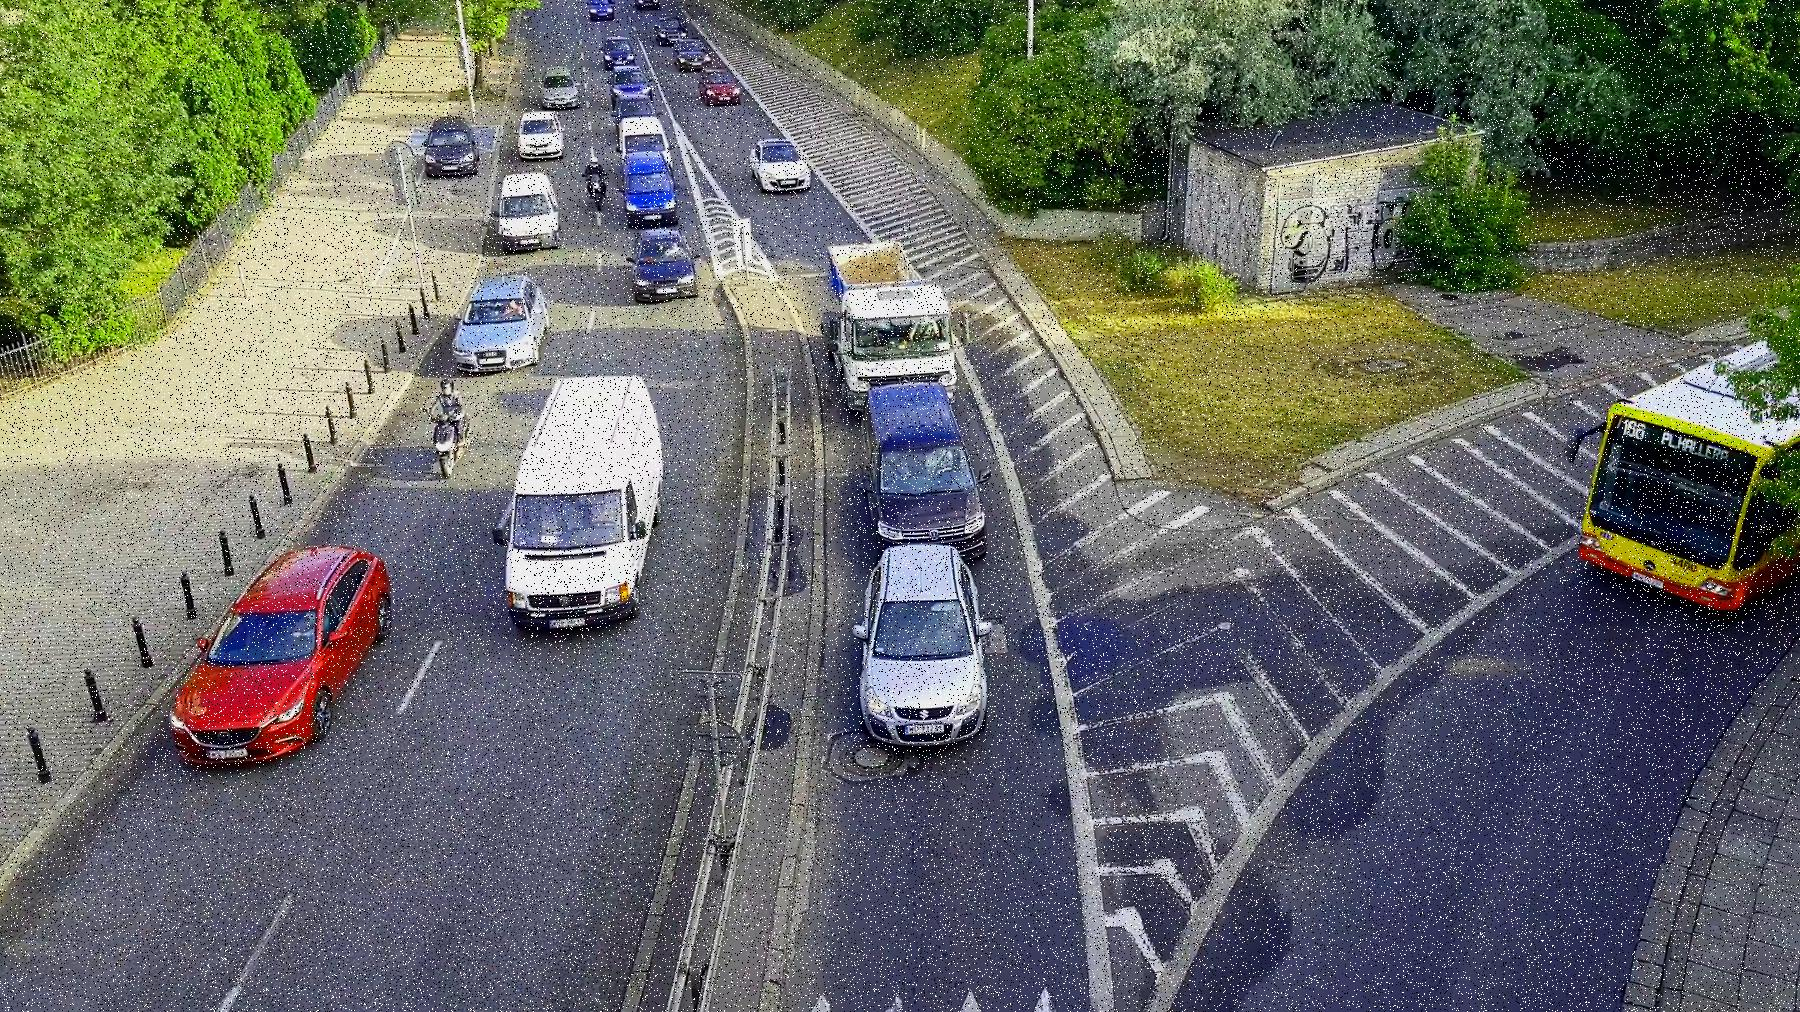bike: (429, 366, 475, 479), (582, 151, 608, 214)
bus: (1561, 245, 1800, 623)
car: (162, 546, 397, 764), (497, 365, 668, 639), (854, 547, 991, 741), (853, 388, 990, 542), (460, 268, 548, 376), (488, 166, 567, 253), (626, 225, 702, 305), (614, 147, 684, 224), (419, 116, 488, 183), (743, 135, 816, 195), (512, 105, 567, 162)
truck: (820, 238, 969, 405)
